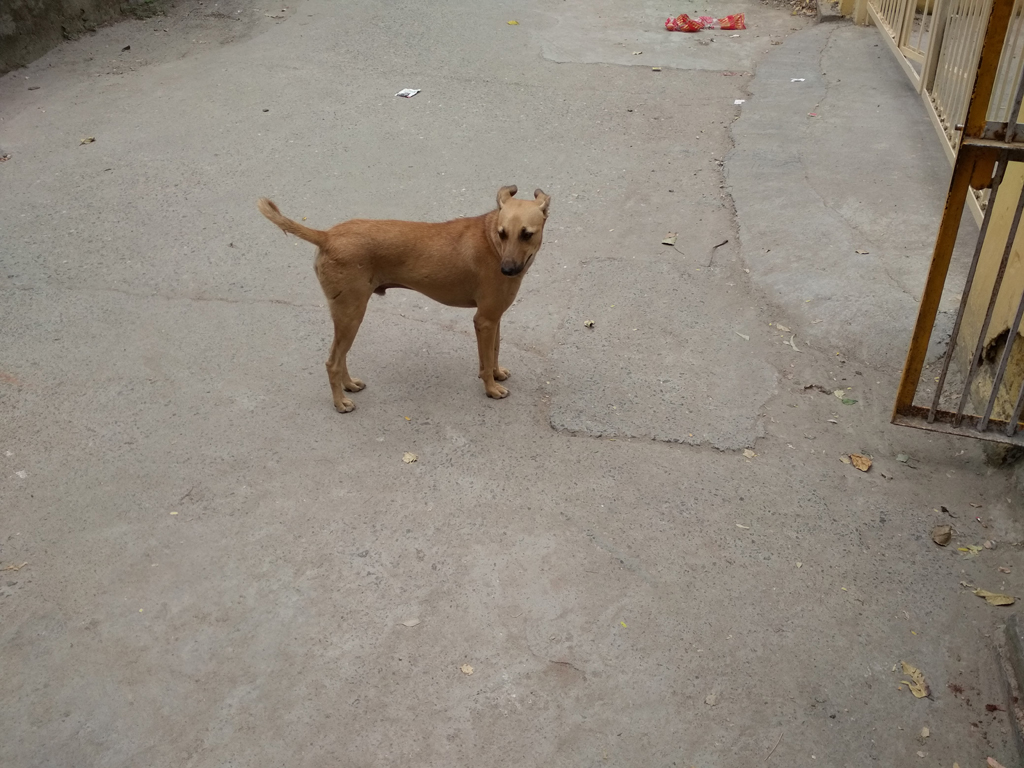dog: (257, 184, 553, 413)
